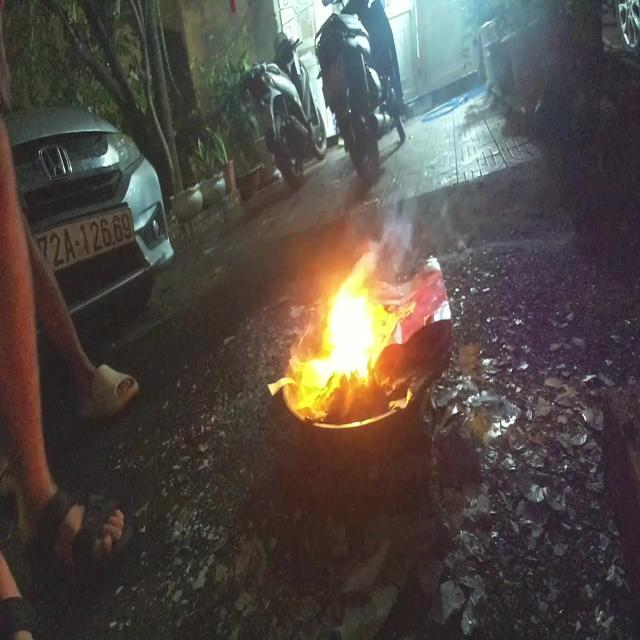Fire: (286, 186, 452, 420)
